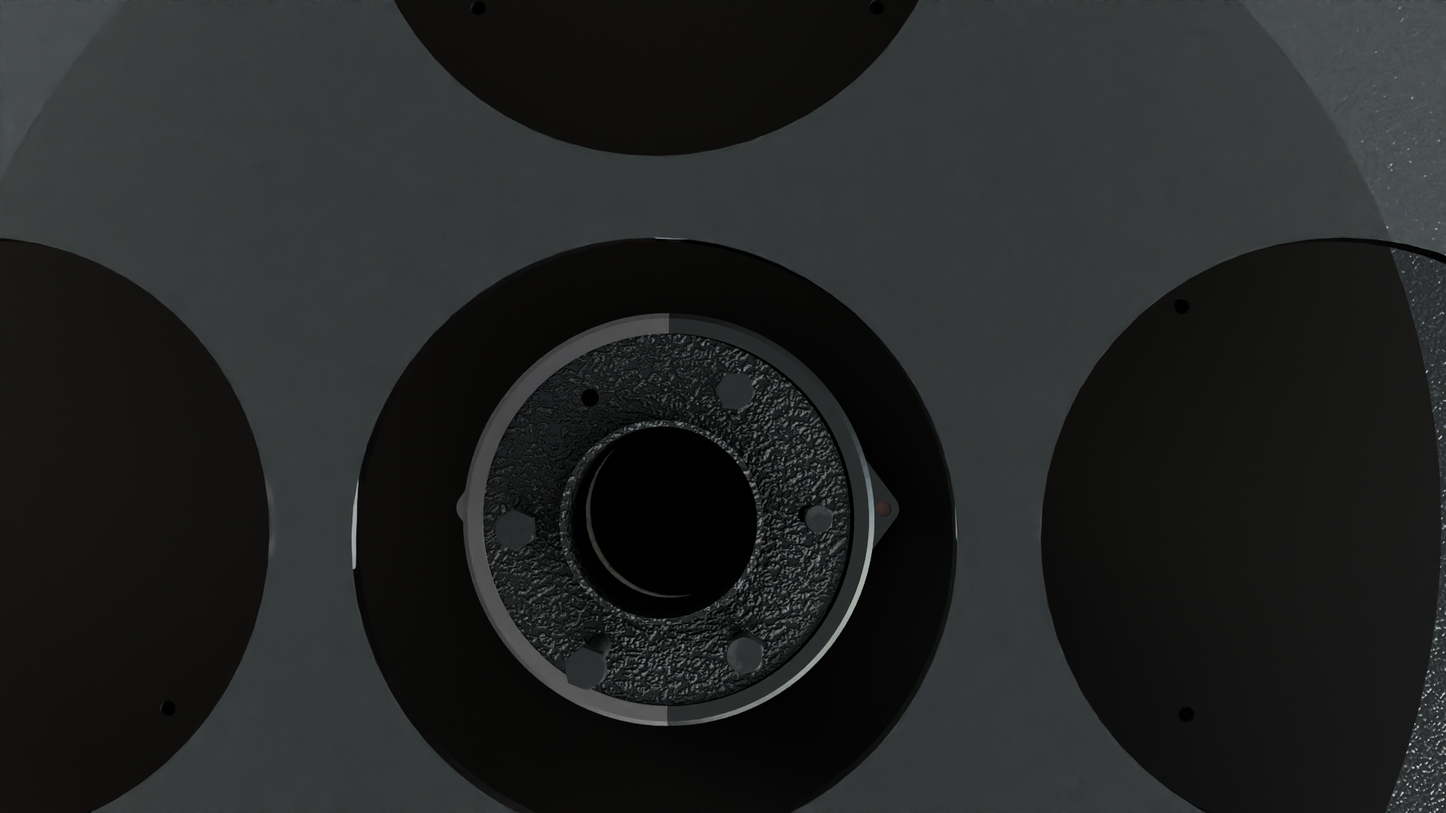bolt: (565, 647, 606, 691), (496, 509, 534, 551), (725, 635, 764, 674), (715, 373, 755, 410), (805, 504, 832, 534)
